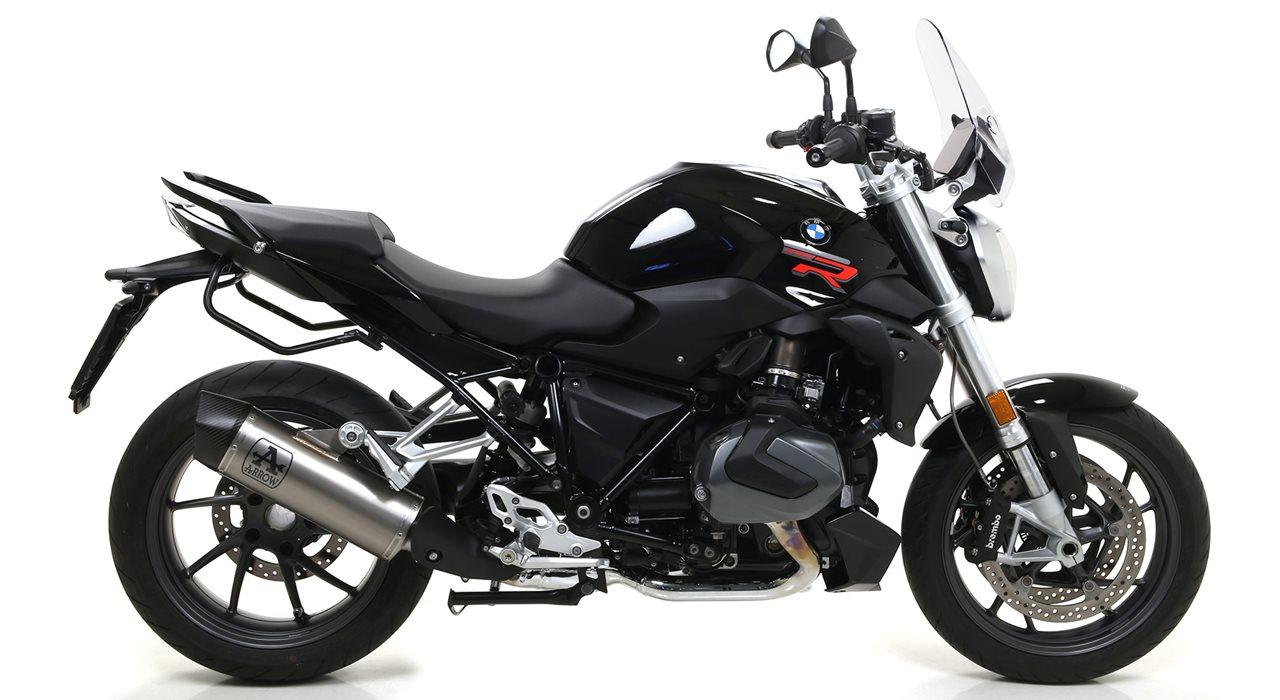engine-chasis: (447, 278, 902, 616), (496, 368, 548, 450), (471, 443, 519, 502)
exhaust: (192, 389, 579, 591), (606, 520, 832, 603)
frontside: (762, 17, 1139, 568)
handlebar: (765, 14, 975, 191)
motorbike: (67, 14, 1212, 682)
rearside: (67, 170, 565, 553)
seat: (219, 199, 636, 344)
tank: (562, 160, 908, 311)
wheel: (108, 358, 434, 684), (900, 402, 1211, 685), (950, 348, 998, 490), (927, 396, 941, 421)
